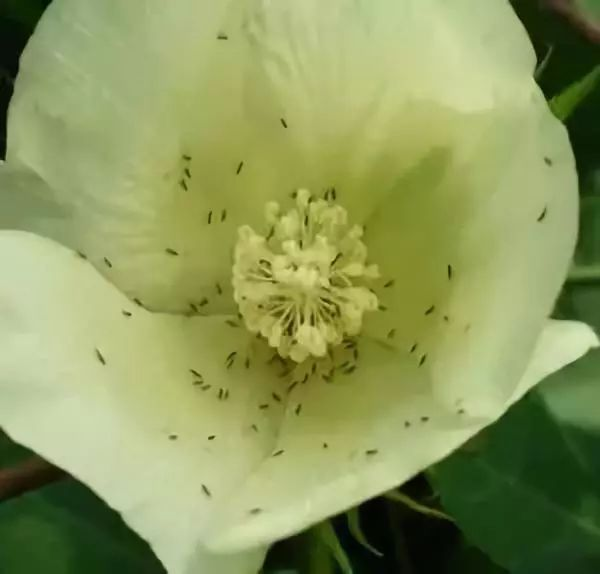thrips: (67, 21, 561, 518), (95, 343, 107, 364)
